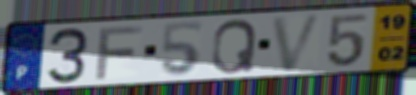3: (43, 25, 91, 85)
5: (161, 18, 206, 78), (325, 12, 370, 68)
F: (93, 24, 146, 81)
Q: (209, 17, 260, 76)
V: (268, 12, 326, 74)
